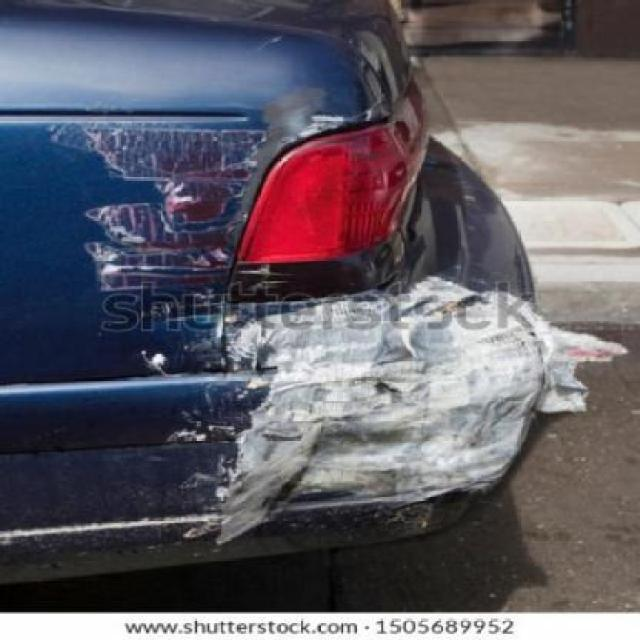quaterpanel-dent: (0, 109, 294, 385)
rear-bumper-dent: (0, 323, 631, 575)
